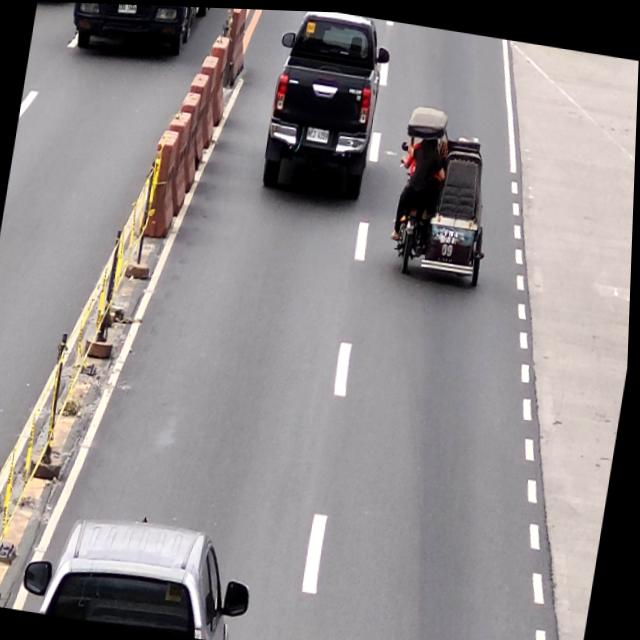Car: (23, 505, 264, 640), (257, 8, 396, 203)
License-Plate: (306, 122, 331, 143)
Tricycle: (385, 98, 509, 285)
